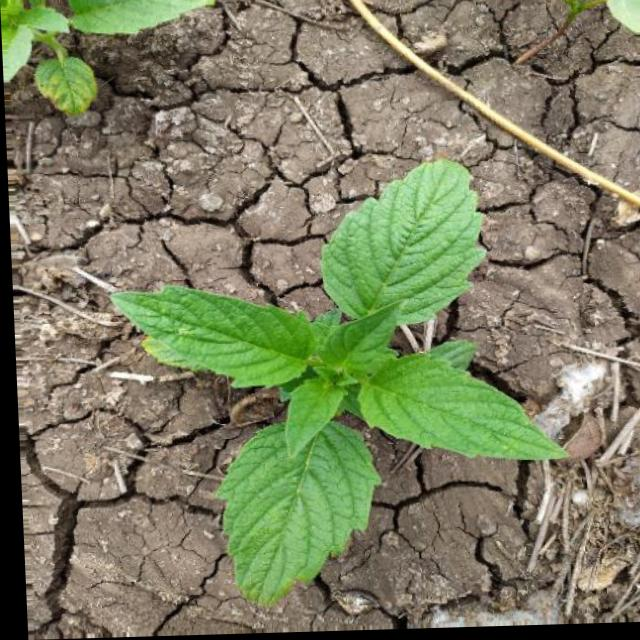crop: (98, 151, 568, 618)
